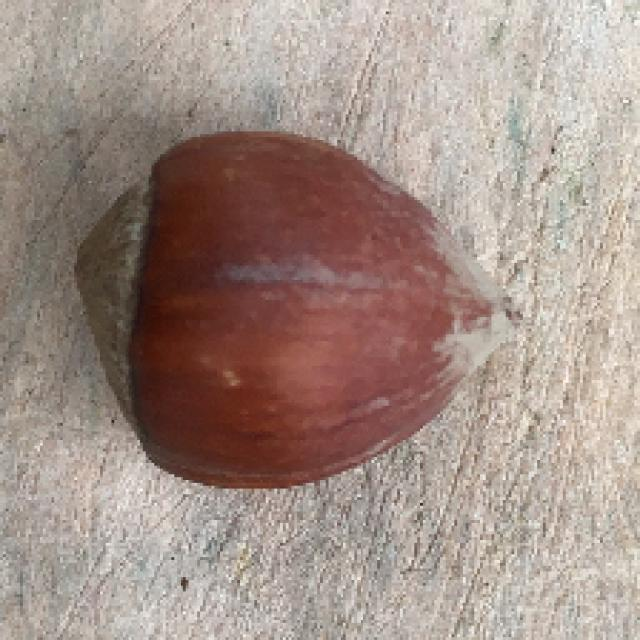qualityHazelnut: (73, 127, 511, 496)
